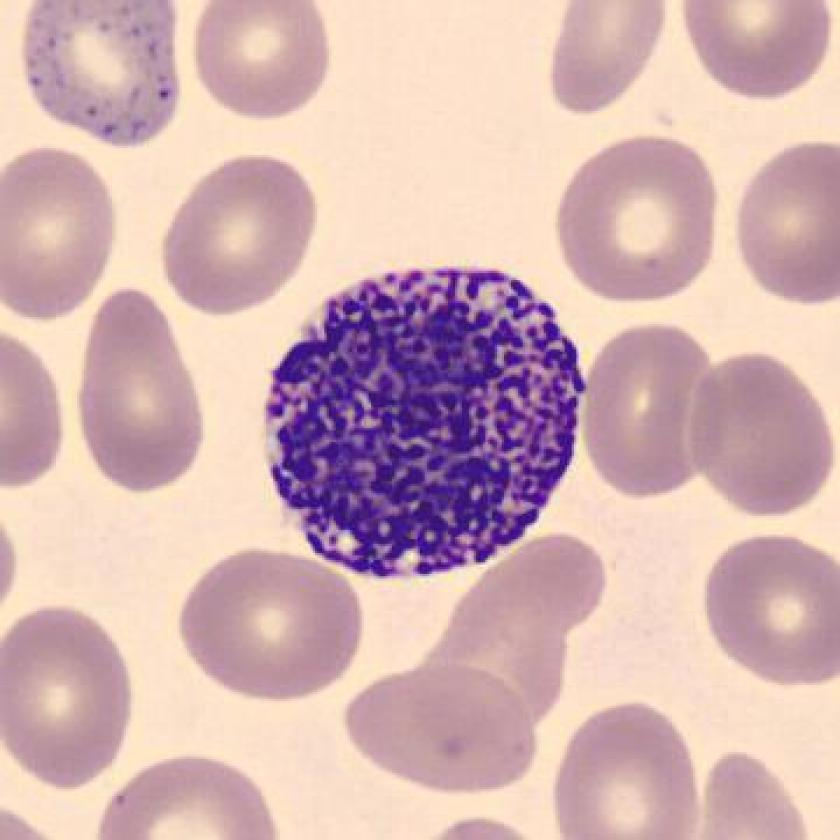basophil: (255, 251, 601, 584)
